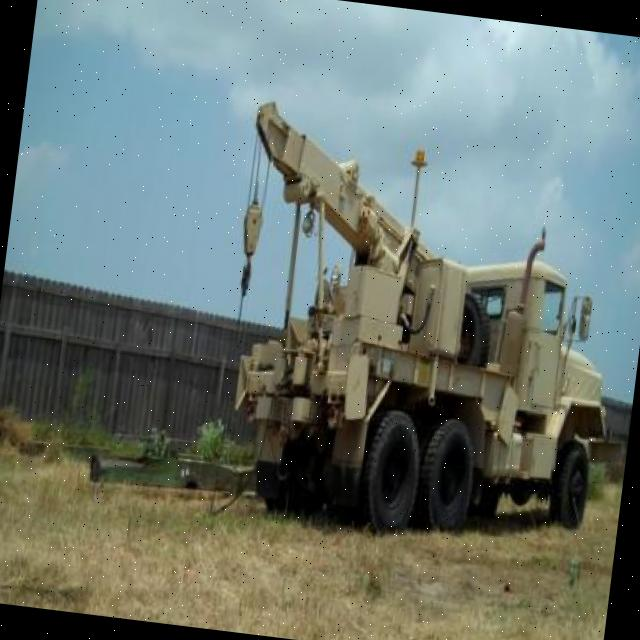Mobile Crane: (208, 106, 636, 548)
